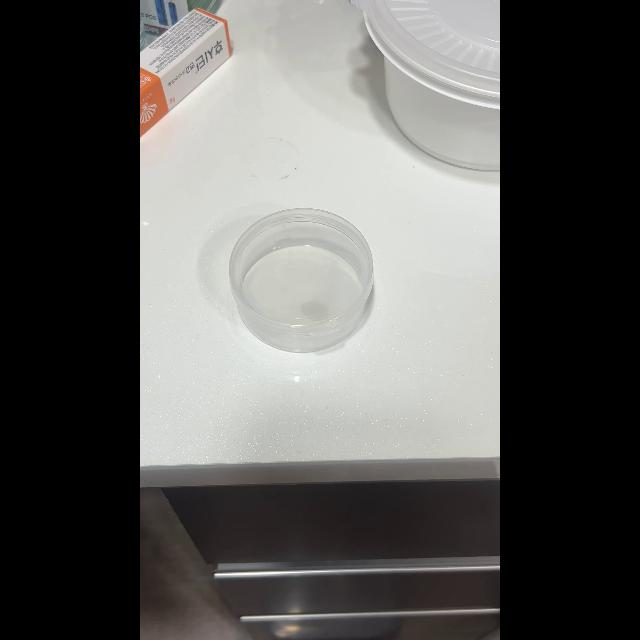clean: (223, 200, 381, 358)
